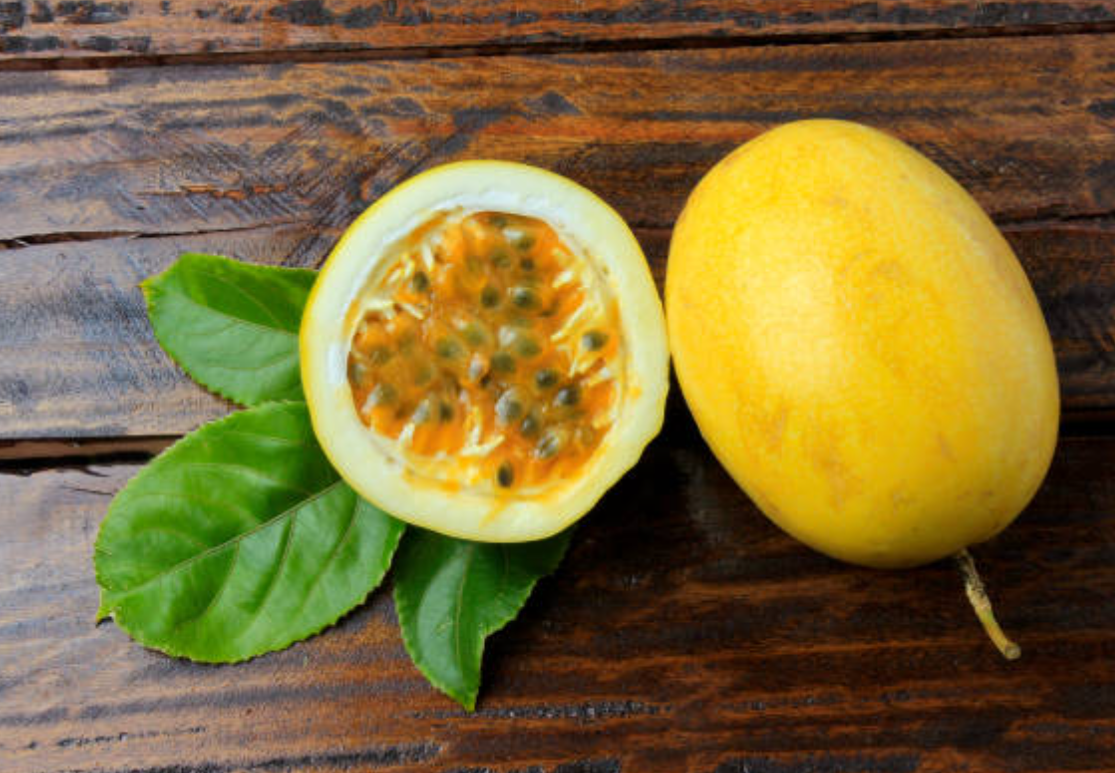maracuya: (653, 114, 1064, 577)
